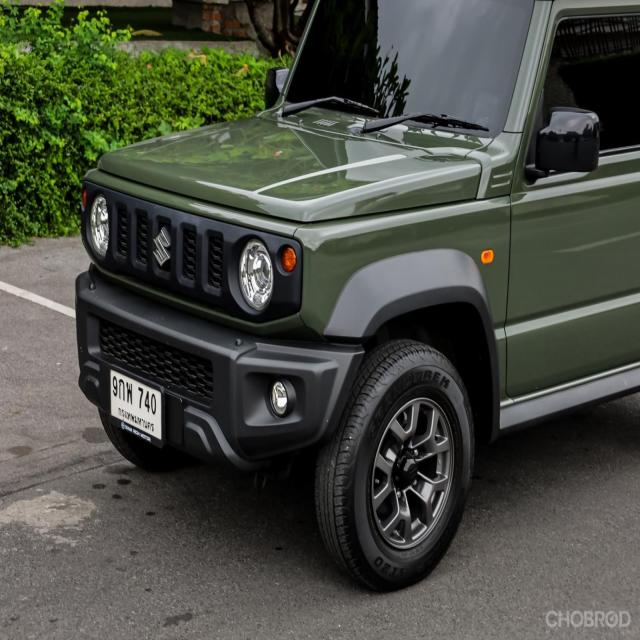license_plate: (108, 364, 167, 459)
